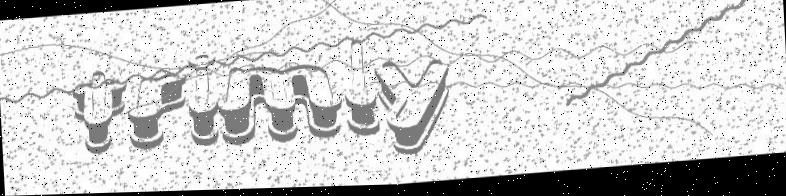i: (188, 50, 221, 150)
l: (341, 36, 383, 141)
m: (215, 59, 345, 149)
r: (125, 69, 192, 154)
t: (68, 68, 130, 156)
y: (373, 55, 460, 163)
